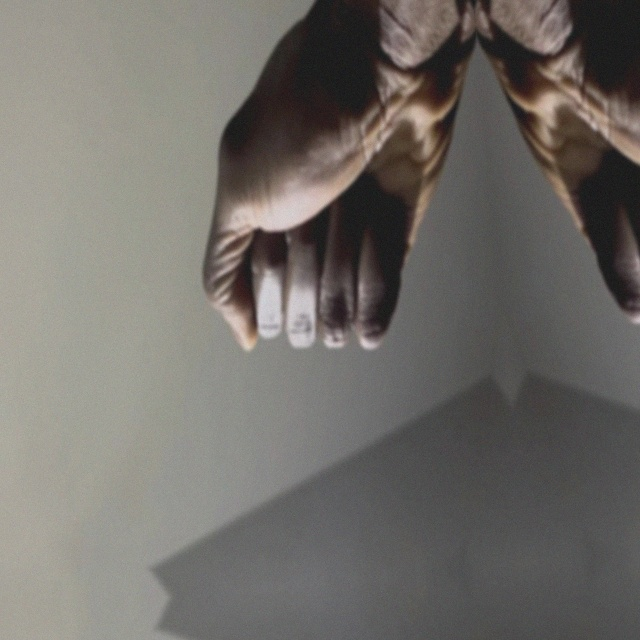Rock: (154, 0, 511, 416)
